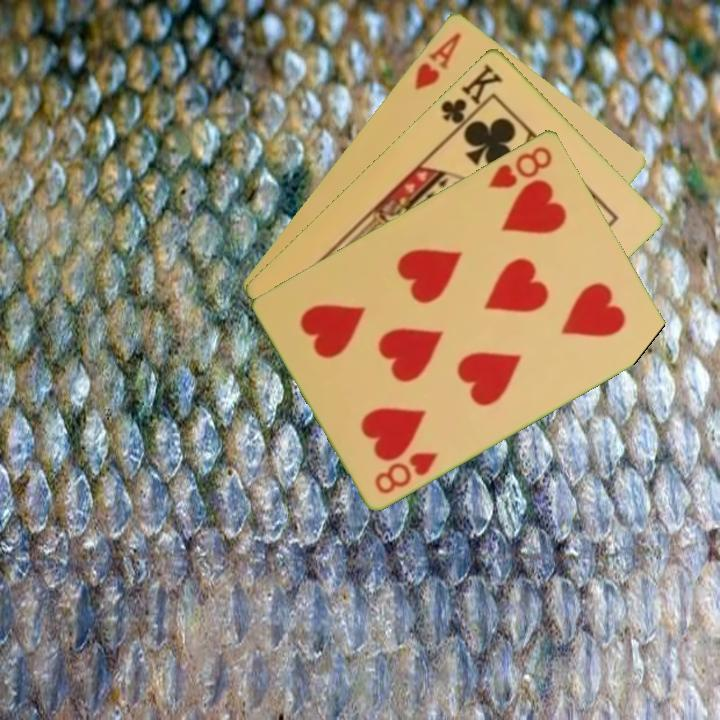8h: (371, 447, 442, 497), (485, 142, 556, 191)
Ah: (410, 28, 465, 92)
Kc: (437, 59, 506, 135)
